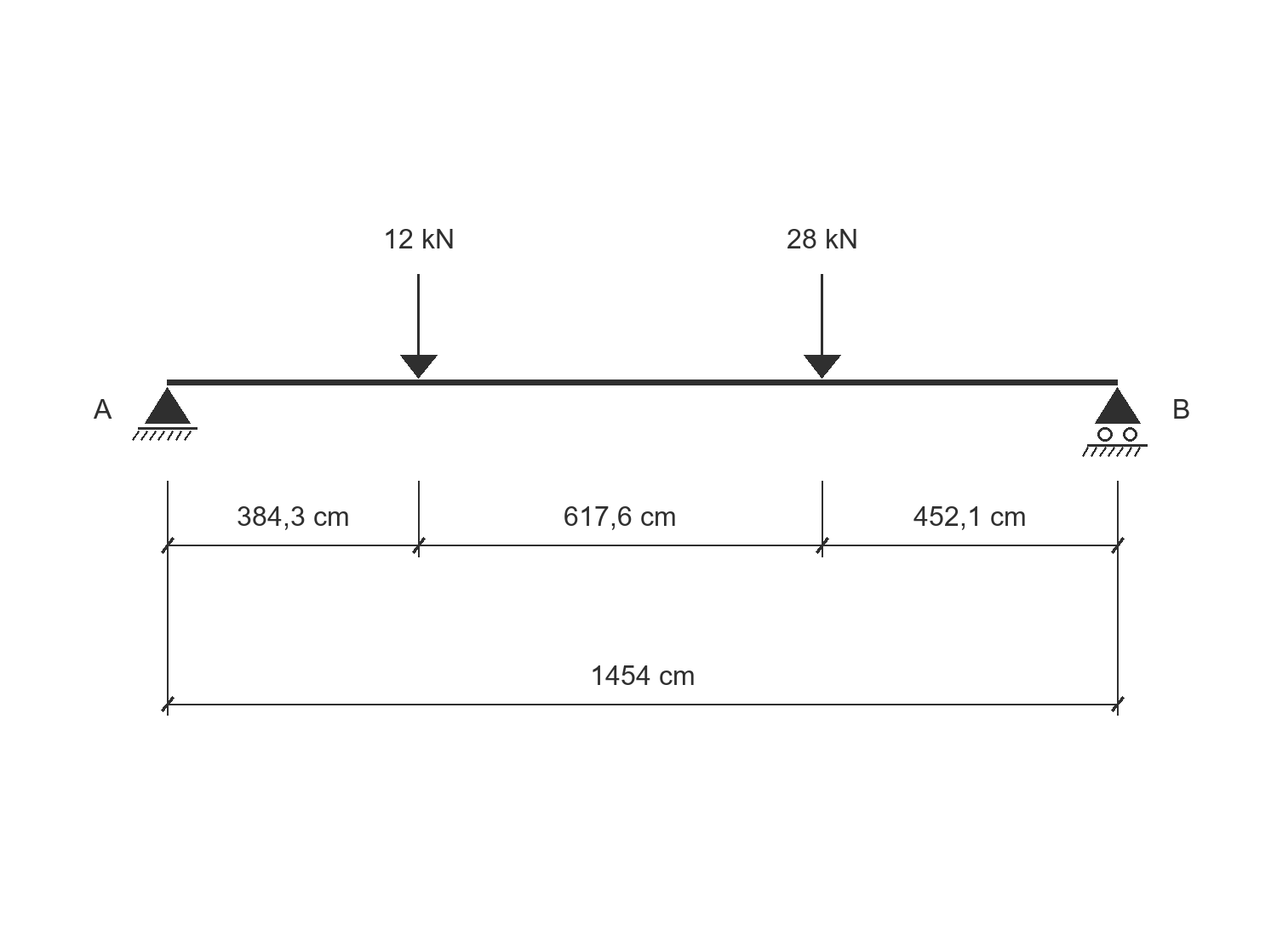pin_support: (132, 387, 198, 441)
point_load: (400, 274, 438, 379), (804, 274, 841, 379)
roller_support: (1082, 387, 1148, 457)
